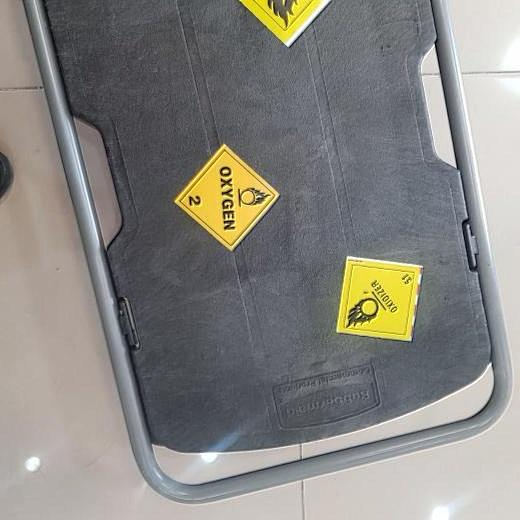oxidizer: (174, 142, 278, 250), (334, 260, 425, 340)
